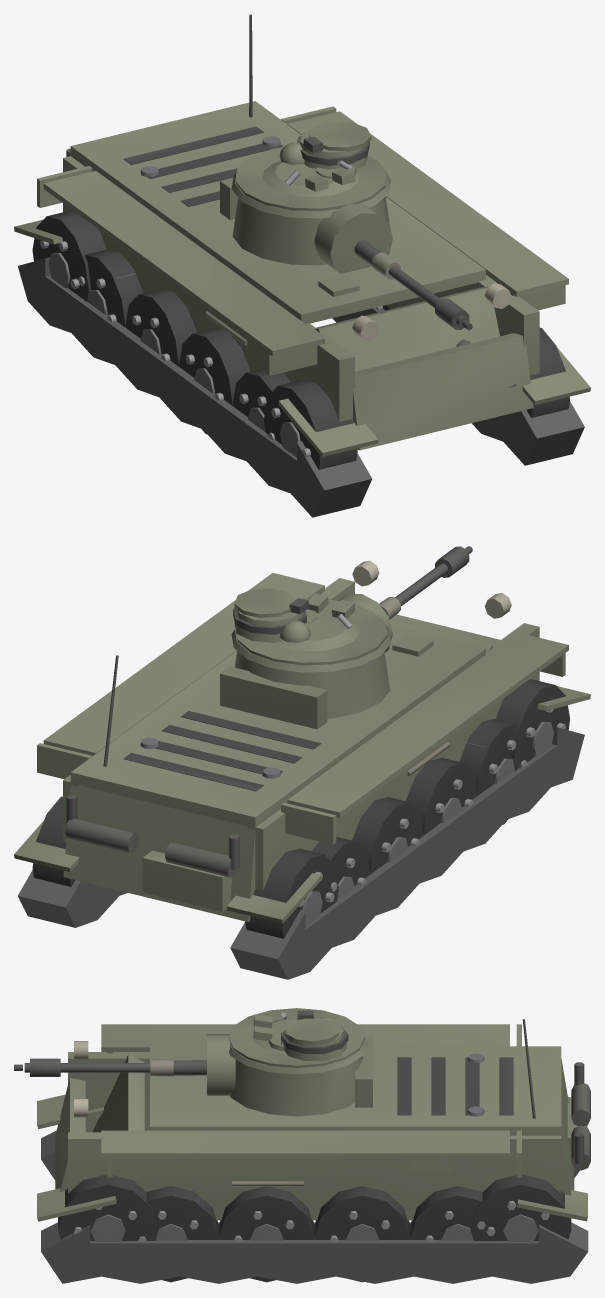
3 renders of one model, top to bottom at view 1: azimuth 30°, elevation 25°; view 2: azimuth 150°, elevation 25°; view 3: azimuth 270°, elevation 25°, orthographic. The views are drawn at different scales.
Parts seen in each view (by area): view 1: hullSide, hullTop, tracks, lowerPlate, turretRoof, glacis, turretFront, wheel4, wheel5, mantlet, wheel2, wheel1 (+5 smaller); view 2: hullSide, hullTop, tracks, hullRear, turretRoof, turretRear, turretFront, wheel5, wheel4, wheel1, wheel2, wheel3 (+7 smaller); view 3: hullSide, tracks, hullTop, turretRoof, turretFront, wheel10, wheel11, wheel8, wheel7, hullRear, wheel9, wheel6 (+6 smaller).
Boxes of the visible parts, x1=… form: hullSide: x1=37, y1=106, x2=568, y2=421; hullTop: x1=70, y1=101, x2=485, y2=323; tracks: x1=14, y1=219, x2=590, y2=517; lowerPlate: x1=353, y1=333, x2=533, y2=450; turretRoof: x1=235, y1=122, x2=387, y2=211; glacis: x1=315, y1=275, x2=515, y2=387; turretFront: x1=232, y1=197, x2=390, y2=265; wheel4: x1=264, y1=379, x2=357, y2=469; wheel5: x1=32, y1=210, x2=106, y2=301; mantlet: x1=314, y1=204, x2=392, y2=273; wheel2: x1=179, y1=328, x2=250, y2=434; wheel1: x1=125, y1=289, x2=196, y2=366; hullSide: x1=37, y1=560, x2=568, y2=890; hullTop: x1=70, y1=625, x2=485, y2=827; tracks: x1=14, y1=686, x2=590, y2=979; hullRear: x1=63, y1=655, x2=256, y2=921; turretRoof: x1=233, y1=588, x2=387, y2=665; turretRear: x1=220, y1=666, x2=327, y2=729; turretFront: x1=234, y1=651, x2=390, y2=718; wheel5: x1=245, y1=848, x2=338, y2=938; wheel4: x1=496, y1=679, x2=569, y2=770; wheel1: x1=352, y1=797, x2=423, y2=874; wheel2: x1=405, y1=757, x2=477, y2=835; wheel3: x1=459, y1=718, x2=527, y2=824; hullSide: x1=68, y1=1024, x2=561, y2=1220; tracks: x1=37, y1=1094, x2=588, y2=1283; hullTop: x1=150, y1=1046, x2=561, y2=1135; turretRoof: x1=228, y1=1008, x2=364, y2=1067; turretFront: x1=230, y1=1056, x2=363, y2=1116; wheel10: x1=58, y1=1174, x2=158, y2=1241; wheel11: x1=470, y1=1174, x2=571, y2=1241; wheel8: x1=219, y1=1186, x2=314, y2=1282; wheel7: x1=314, y1=1186, x2=410, y2=1282; hullRear: x1=522, y1=1019, x2=590, y2=1195; wheel9: x1=138, y1=1186, x2=218, y2=1282; wheel6: x1=410, y1=1186, x2=485, y2=1241.
Size of the model in its own units: 3.4 by 2.94 by 6.43.
